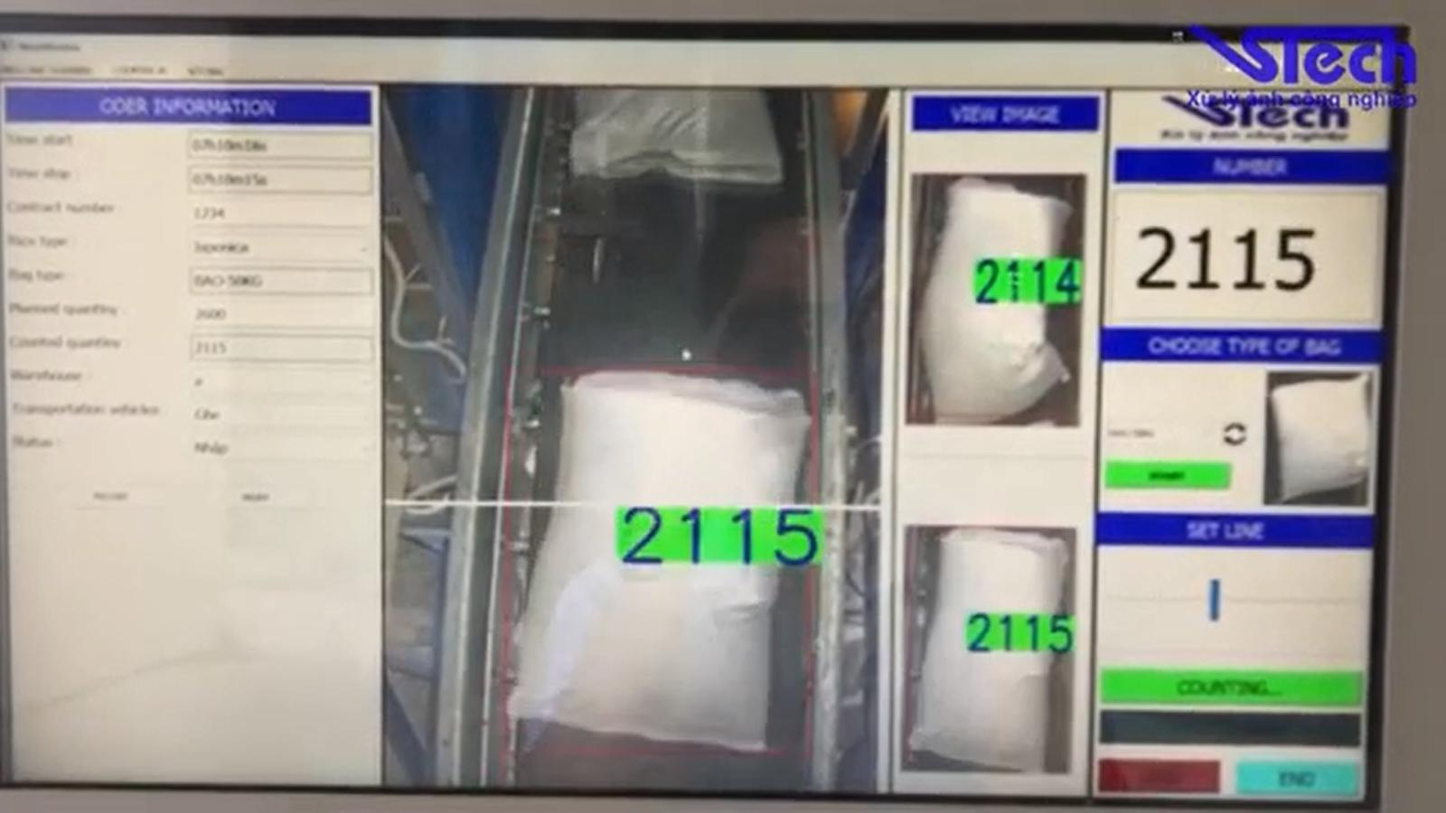rice-bag: (510, 371, 809, 752), (914, 178, 1072, 424), (910, 528, 1067, 771)
